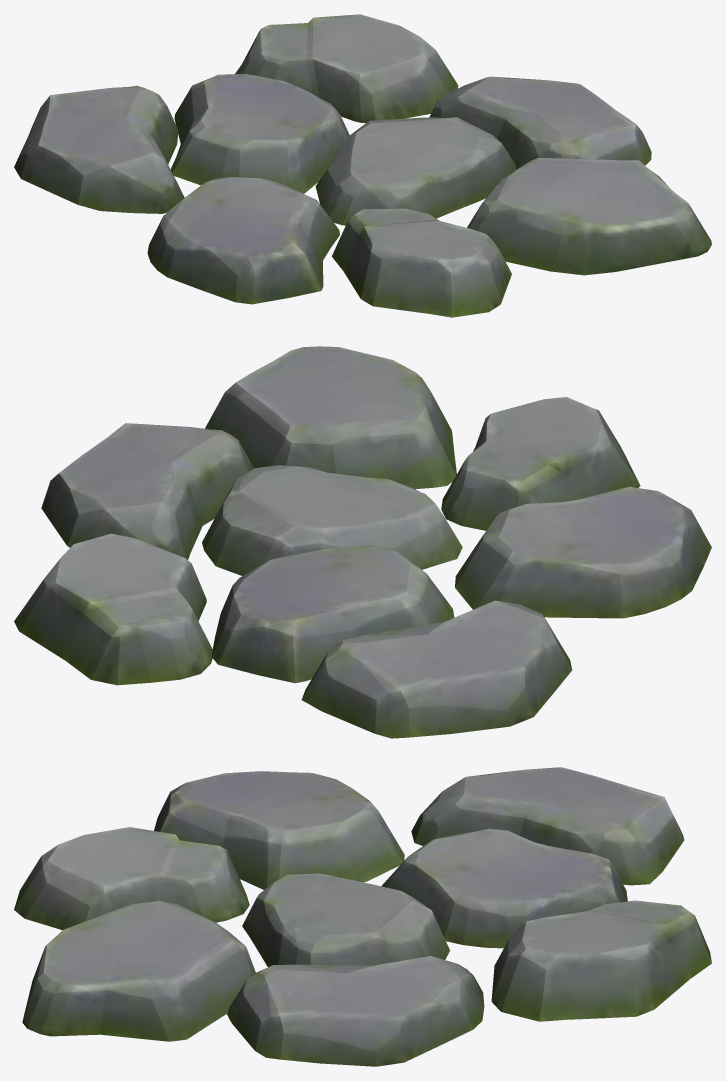
The model's file is path-stone-3.glb.
The picture shows the model from 3 angles, top to bottom: view 1: azimuth 30°, elevation 25°; view 2: azimuth 150°, elevation 25°; view 3: azimuth 270°, elevation 25°; orthographic projection. The views are drawn at different scales.
Visible parts, largest first — view 1: RockPath_Round_Small_3; view 2: RockPath_Round_Small_3; view 3: RockPath_Round_Small_3.
Boxes of the visible parts, box(x1,y1,x2,y2) form: RockPath_Round_Small_3: box(14, 14, 711, 317); RockPath_Round_Small_3: box(14, 346, 711, 738); RockPath_Round_Small_3: box(14, 767, 711, 1066).
Size of the model in its own units: 1.18 by 0.1093 by 1.29.
1 material, 1 textured.
